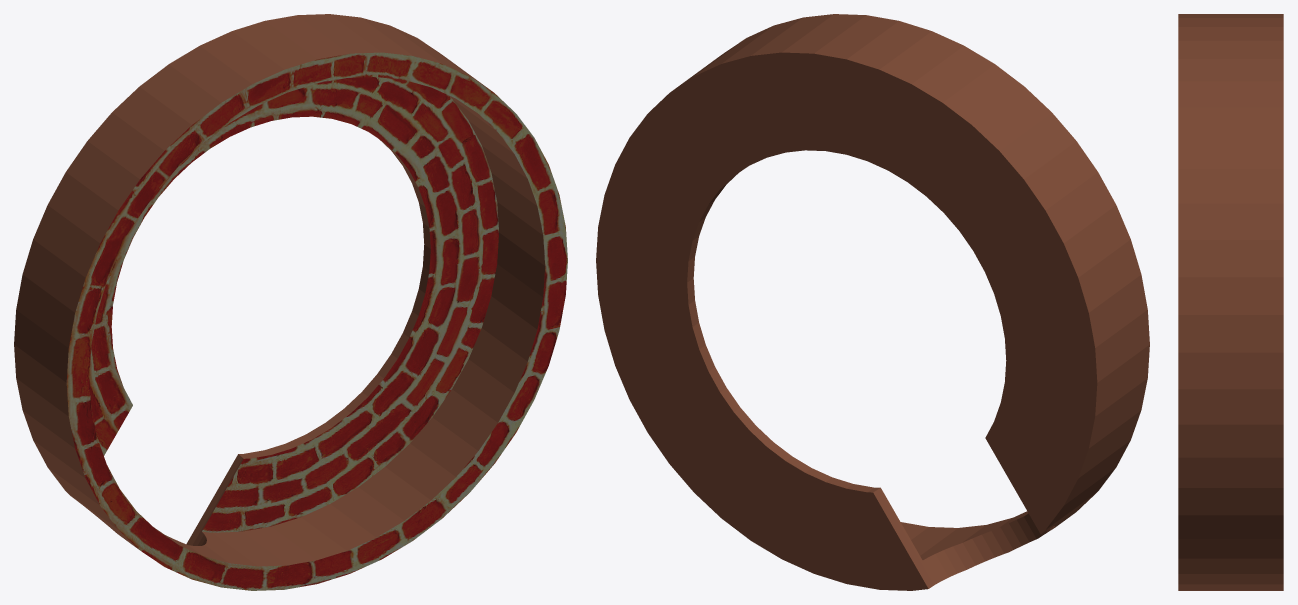
File: pool_037.obj
3 renders of one model, left to right at view 1: azimuth 30°, elevation 25°; view 2: azimuth 150°, elevation 25°; view 3: azimuth 270°, elevation 25°, orthographic.
Size of the model in its own units: 22 by 22 by 4.
